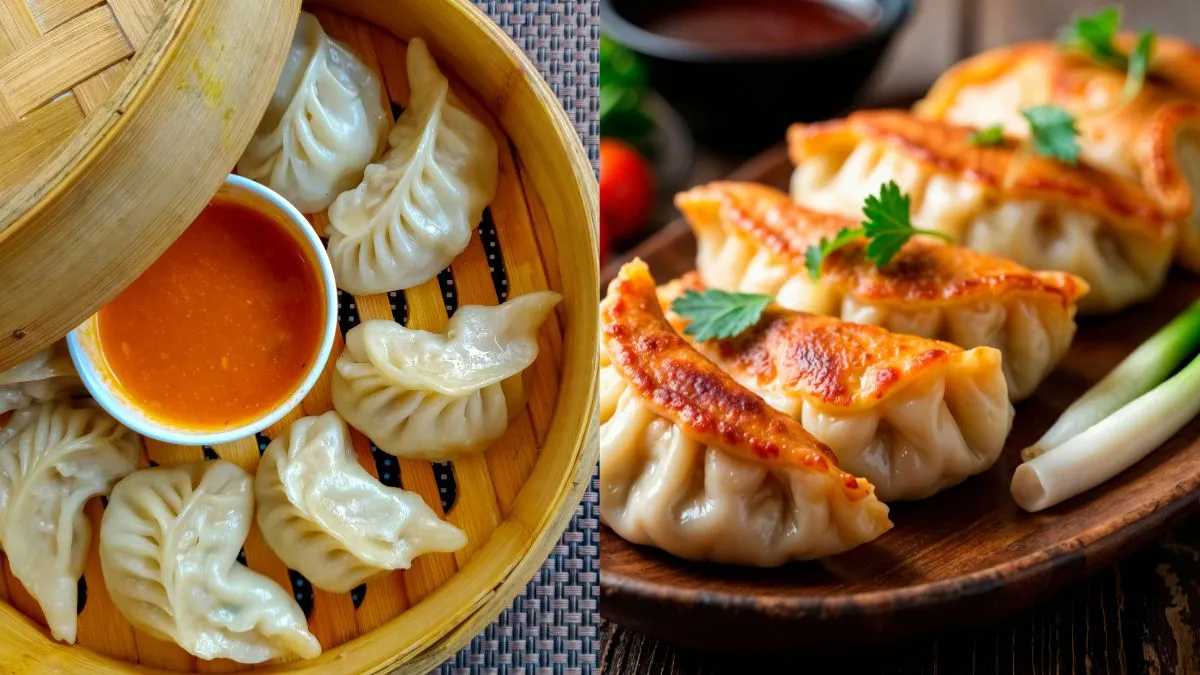momo: (593, 258, 892, 572), (675, 183, 1077, 395), (783, 115, 1177, 310), (672, 272, 1005, 498), (920, 32, 1200, 253), (102, 458, 333, 672), (337, 40, 495, 293), (348, 285, 562, 460), (253, 417, 475, 573), (0, 407, 138, 647), (240, 28, 397, 195)
